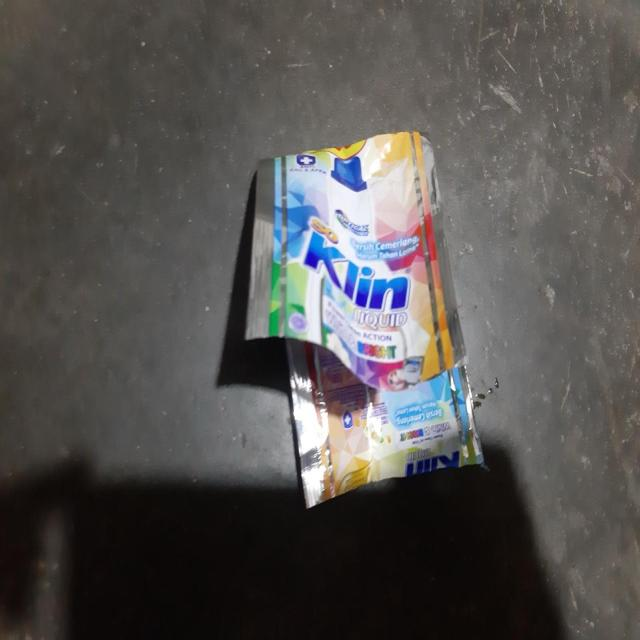KemasanPlastik: (243, 129, 487, 509)
